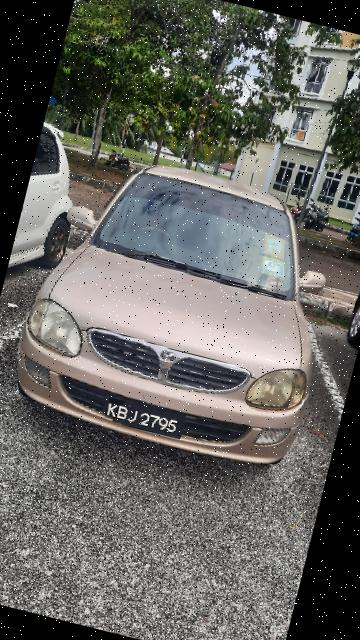License_Plate: (96, 393, 190, 446)
car: (4, 130, 360, 483)
